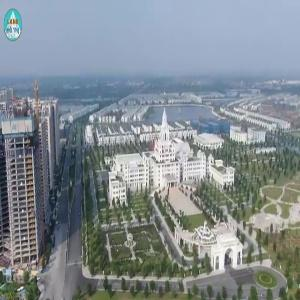drone: (9, 121, 53, 165)
